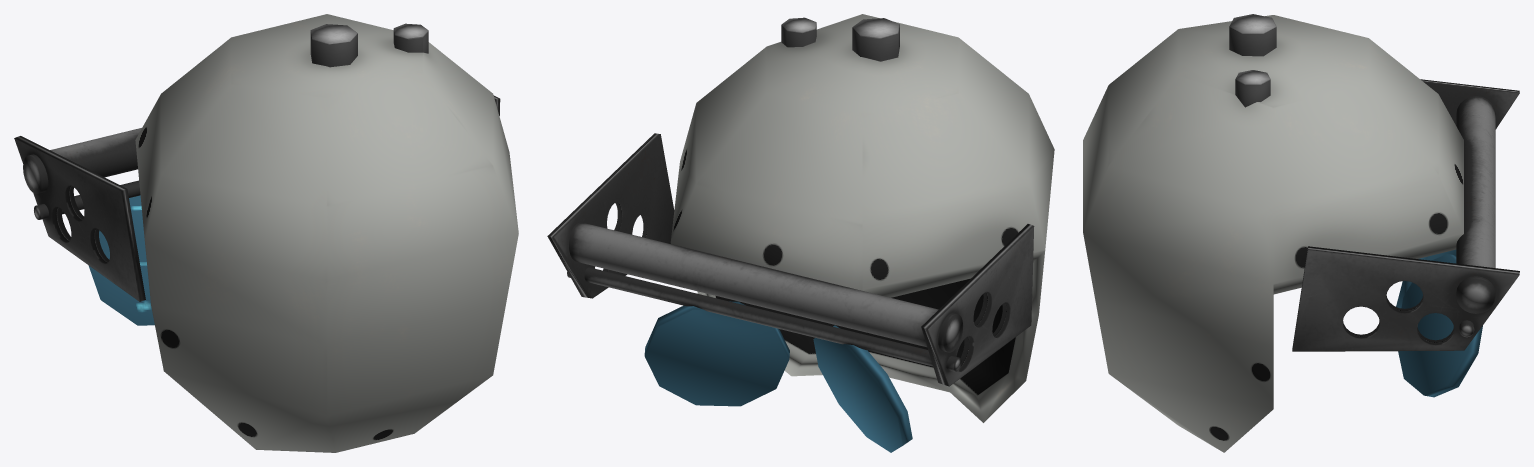
The model's file is Vital.gltf.
3 renders of one model, left to right at view 1: azimuth 30°, elevation 25°; view 2: azimuth 150°, elevation 25°; view 3: azimuth 270°, elevation 25°, orthographic.
Visible parts, largest first — view 1: pSphere1, pCylinder6, pCylinder9, pCylinder7, pCylinder8; view 2: pSphere1, pCylinder6, pCylinder10, pCylinder9, pCylinder7, pCylinder8; view 3: pSphere1, pCylinder6, pCylinder10, pCylinder7, pCylinder8.
Part boxes in pixels (left/top/right/bottom): pSphere1: left=135, top=14, right=518, bottom=452; pCylinder6: left=14, top=95, right=500, bottom=301; pCylinder9: left=88, top=195, right=154, bottom=325; pCylinder7: left=310, top=24, right=357, bottom=67; pCylinder8: left=393, top=23, right=428, bottom=53; pSphere1: left=670, top=14, right=1054, bottom=422; pCylinder6: left=547, top=133, right=1034, bottom=386; pCylinder10: left=644, top=301, right=789, bottom=406; pCylinder9: left=813, top=325, right=912, bottom=452; pCylinder7: left=852, top=18, right=899, bottom=61; pCylinder8: left=781, top=17, right=816, bottom=47; pSphere1: left=1083, top=15, right=1463, bottom=452; pCylinder6: left=1292, top=79, right=1519, bottom=351; pCylinder10: left=1398, top=254, right=1482, bottom=397; pCylinder7: left=1229, top=14, right=1276, bottom=56; pCylinder8: left=1235, top=70, right=1270, bottom=107.
Bounding box in the file's own units: 0.5738 × 0.5432 × 0.5654.
1 material, 1 textured.
